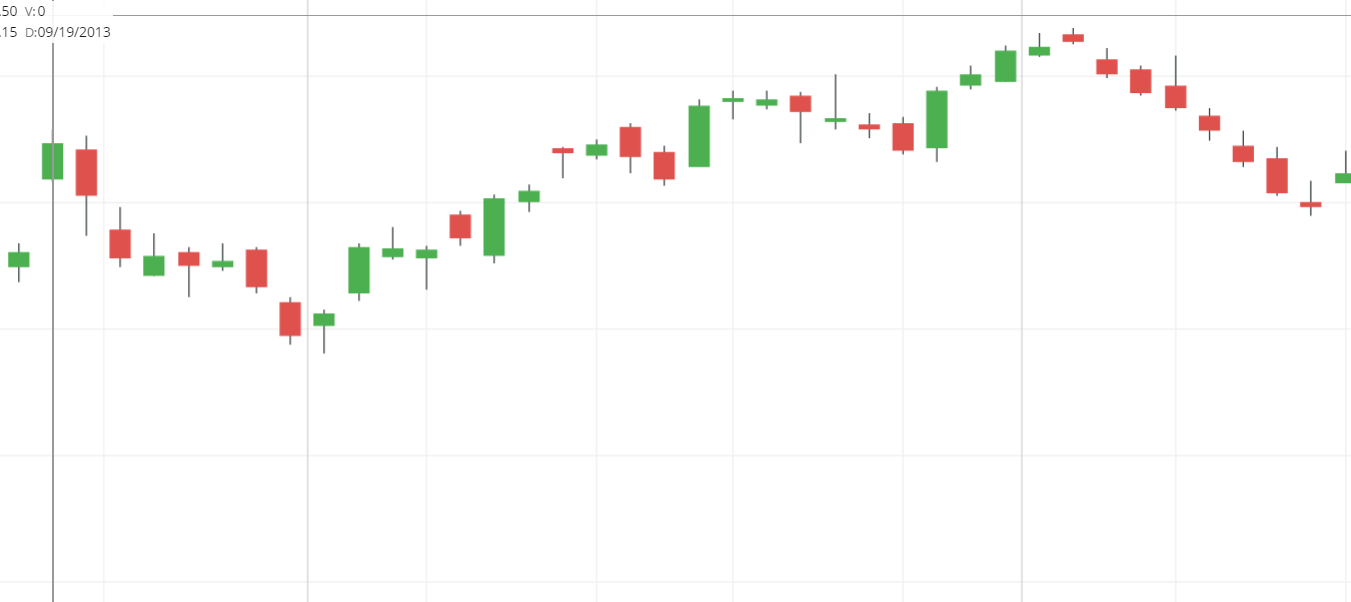doji: (817, 64, 852, 135), (545, 133, 581, 189), (410, 239, 444, 295), (203, 231, 239, 283), (714, 76, 748, 131), (378, 216, 406, 264)
